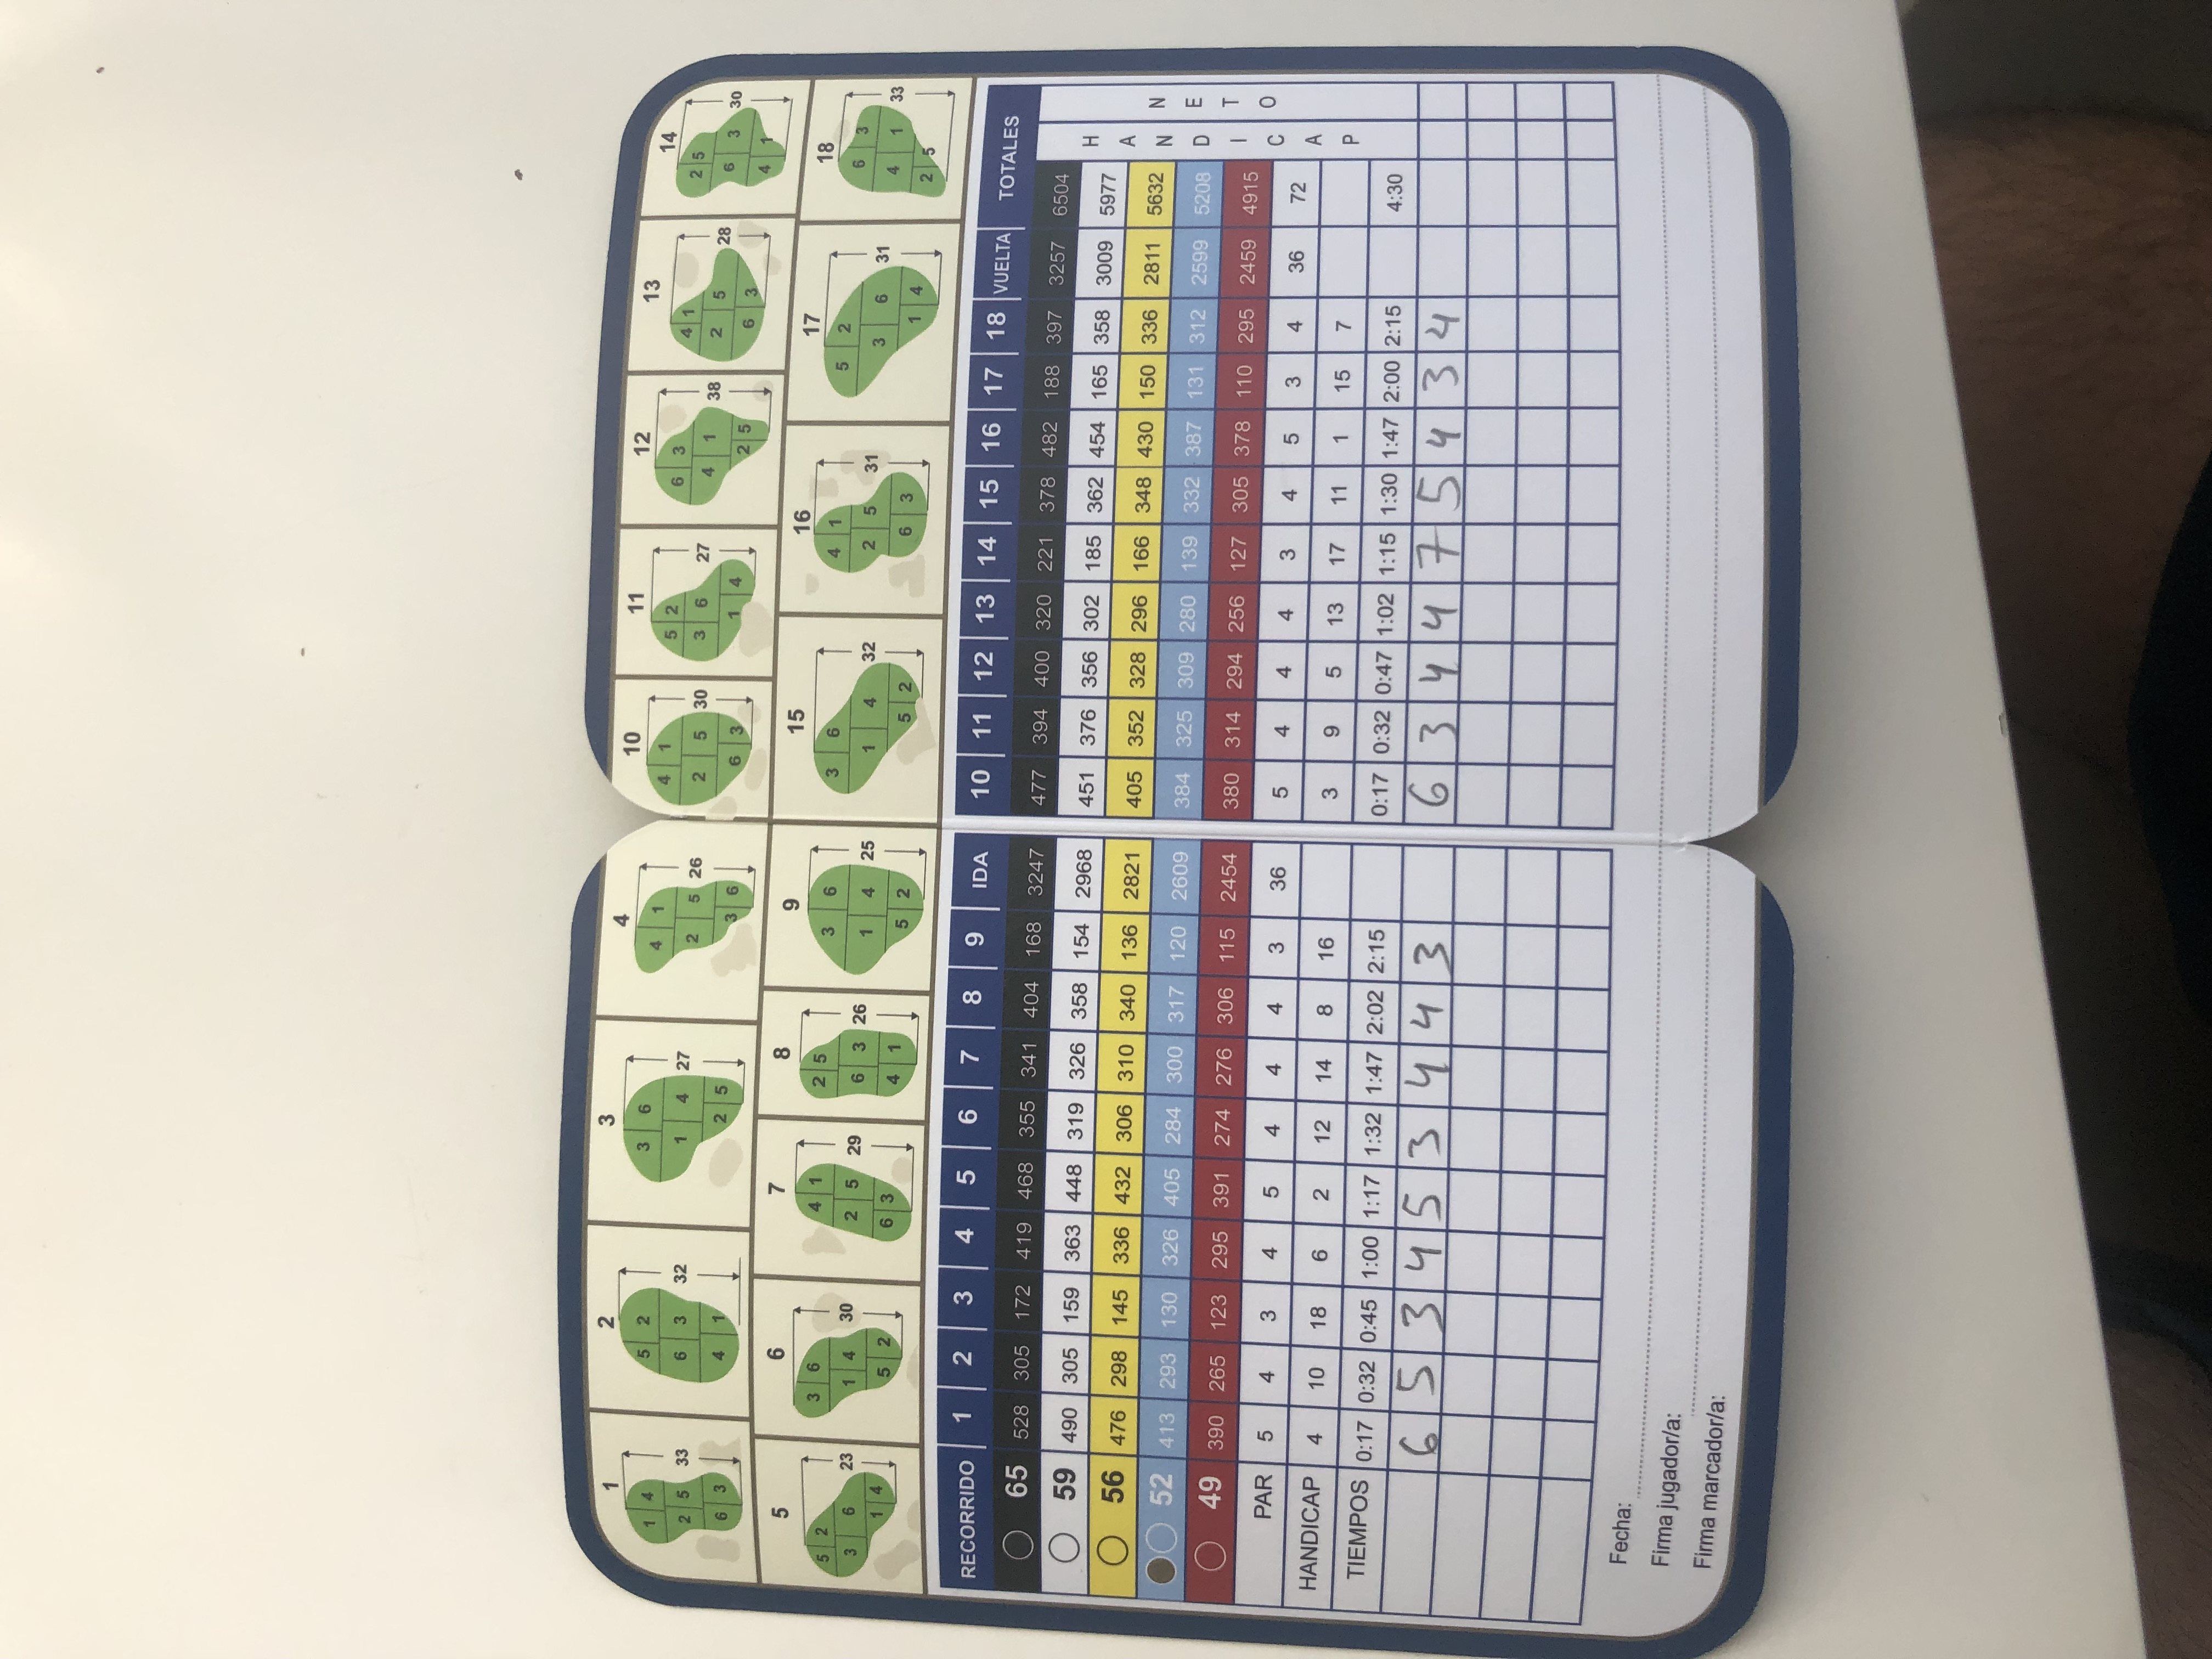par: (1254, 173, 1310, 1516)
score: (1397, 296, 1460, 1460)
